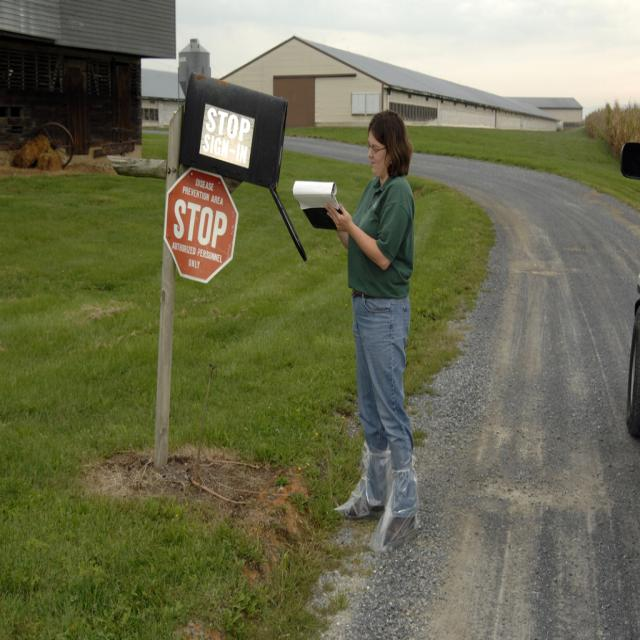Stop-sign: (162, 166, 239, 288)
